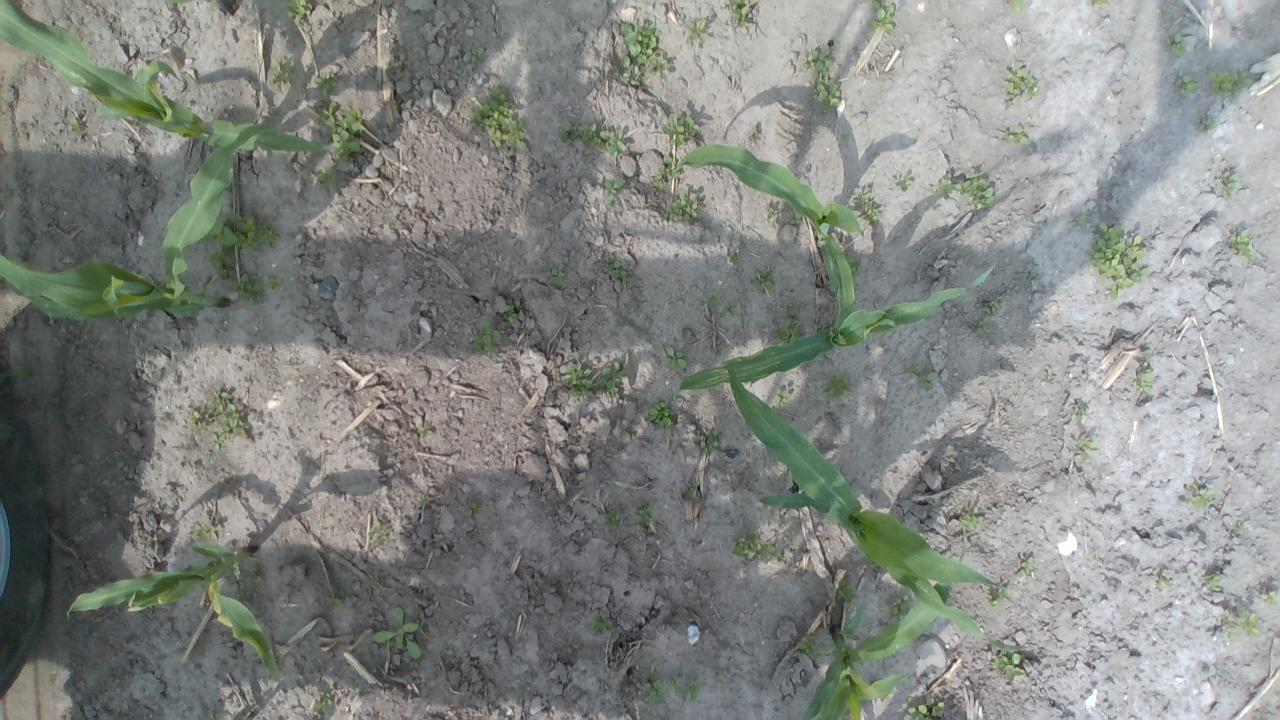Maize: (724, 367, 1030, 654), (0, 117, 289, 319), (0, 0, 340, 153), (676, 258, 999, 389), (669, 142, 866, 334), (800, 528, 969, 720), (64, 542, 284, 680)
Weeds: (198, 210, 282, 308), (1088, 222, 1150, 300), (468, 85, 528, 150), (186, 390, 248, 452), (611, 18, 668, 84), (800, 45, 841, 115), (316, 101, 362, 162), (373, 606, 421, 660), (558, 121, 628, 158), (953, 166, 995, 209), (1004, 66, 1038, 112), (732, 530, 776, 564), (1224, 607, 1262, 643), (662, 112, 702, 146), (593, 360, 629, 395), (472, 318, 502, 358), (990, 650, 1026, 682), (662, 192, 699, 223), (1181, 482, 1219, 512), (1210, 70, 1252, 97), (903, 694, 945, 720), (820, 371, 855, 402), (852, 187, 879, 227), (650, 154, 680, 190), (268, 56, 298, 92), (564, 360, 594, 396), (1134, 348, 1156, 397), (602, 253, 632, 288), (639, 664, 665, 704), (646, 397, 678, 428), (705, 290, 738, 318), (666, 675, 701, 700), (1230, 229, 1256, 262), (772, 316, 802, 344), (867, 0, 895, 30), (884, 594, 914, 622), (728, 0, 756, 28), (1070, 434, 1098, 462), (693, 427, 721, 455), (583, 609, 613, 635), (798, 634, 828, 660), (630, 498, 656, 526), (284, 0, 313, 25), (930, 172, 954, 202), (750, 268, 776, 295), (1218, 171, 1242, 199), (314, 70, 338, 98), (598, 507, 624, 532), (1174, 76, 1200, 100), (192, 518, 218, 542), (314, 690, 334, 720), (986, 586, 1010, 611), (958, 505, 981, 531), (312, 166, 339, 188), (1000, 124, 1029, 144), (368, 520, 392, 544), (662, 344, 686, 368), (603, 178, 625, 204), (917, 364, 937, 392), (686, 19, 709, 43), (1164, 33, 1186, 58), (836, 579, 858, 604), (772, 389, 792, 410), (548, 262, 566, 284), (502, 298, 520, 320), (246, 567, 264, 588), (894, 172, 914, 190), (975, 314, 992, 335), (1072, 400, 1088, 422), (1260, 590, 1279, 608), (1203, 572, 1222, 590), (1018, 556, 1034, 577), (468, 46, 488, 62), (1156, 571, 1172, 591), (986, 296, 1002, 314), (681, 481, 699, 496), (774, 546, 789, 564), (903, 363, 921, 378), (562, 574, 584, 586), (1008, 0, 1028, 13), (728, 250, 744, 266), (1199, 118, 1216, 133), (68, 116, 82, 134), (465, 502, 479, 518), (322, 594, 344, 604), (1235, 519, 1249, 533), (1072, 213, 1087, 226), (1090, 0, 1108, 9), (790, 302, 806, 312), (748, 126, 759, 140), (417, 494, 428, 506), (711, 674, 724, 684), (418, 427, 432, 436), (203, 711, 216, 720), (788, 218, 802, 226), (767, 206, 776, 218), (1045, 367, 1053, 376), (622, 430, 630, 438), (931, 204, 940, 211), (1031, 273, 1040, 280)
